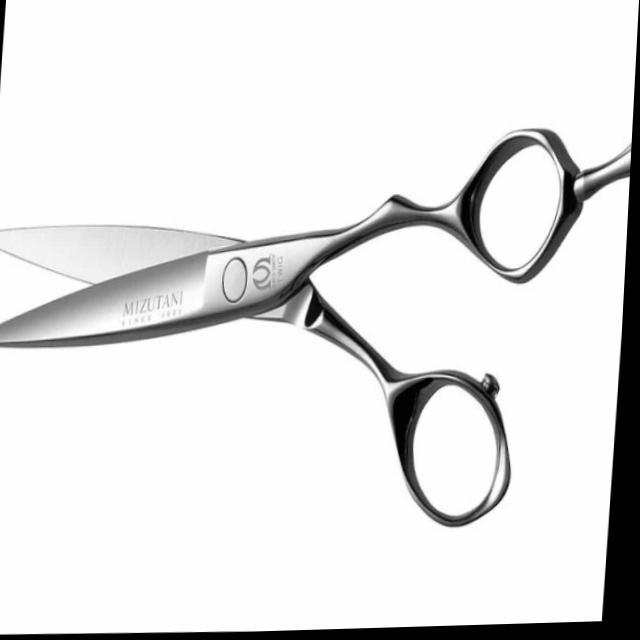scissor: (0, 81, 636, 559)
